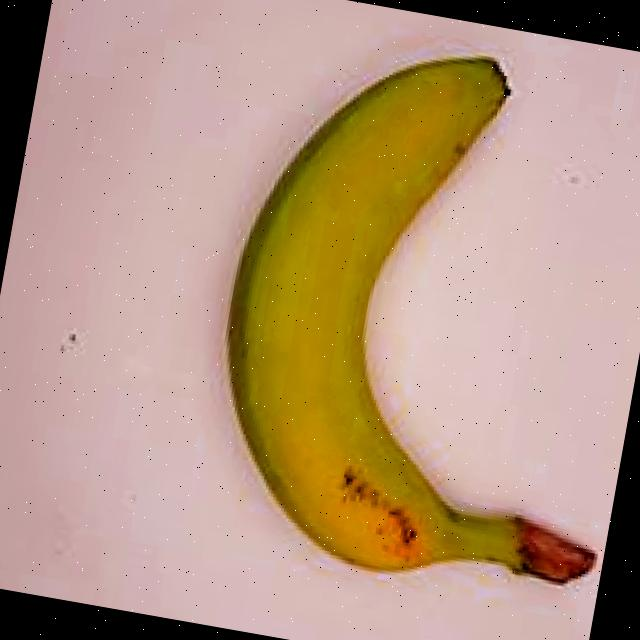Unripe: (141, 0, 640, 632)
